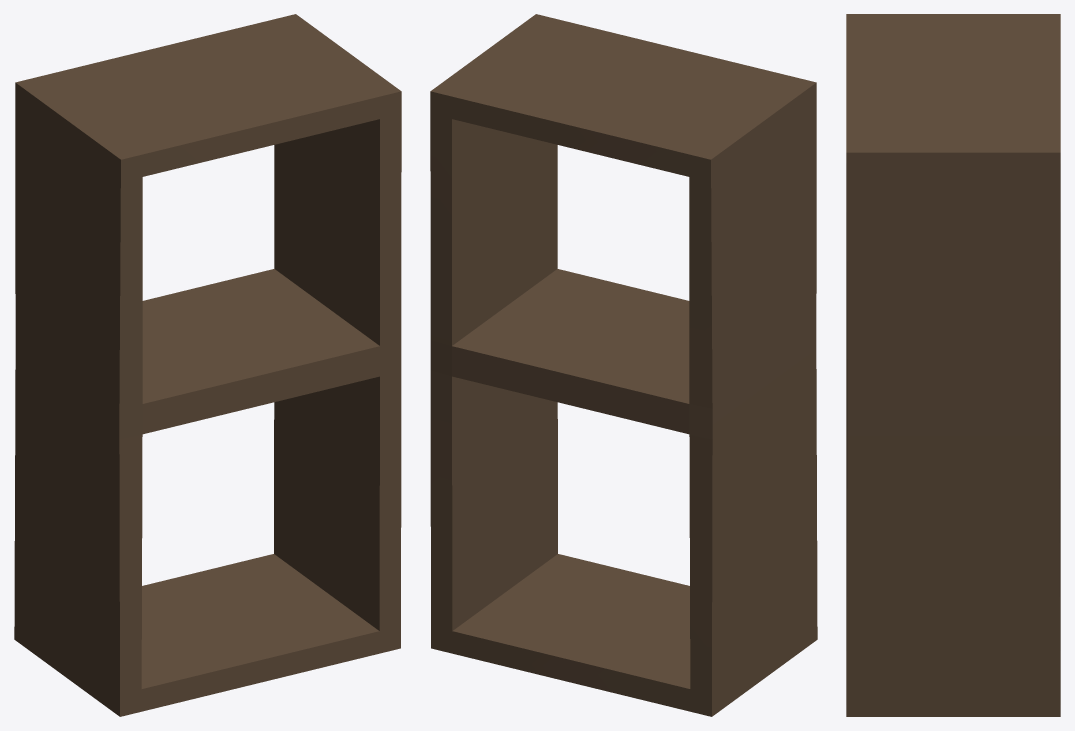
The model's file is Estante Mini.fbx.
The picture shows the model from 3 angles, left to right: view 1: azimuth 30°, elevation 25°; view 2: azimuth 150°, elevation 25°; view 3: azimuth 270°, elevation 25°; orthographic projection.
Visible parts, largest first — view 1: Estante_Mini; view 2: Estante_Mini; view 3: Estante_Mini.
Boxes of the visible parts, bbox=[...] form: Estante_Mini: bbox=[14, 14, 401, 716]; Estante_Mini: bbox=[430, 14, 817, 716]; Estante_Mini: bbox=[846, 14, 1060, 716].
Bounding box in the file's own units: 0.7395 × 1.39 × 0.4796.
